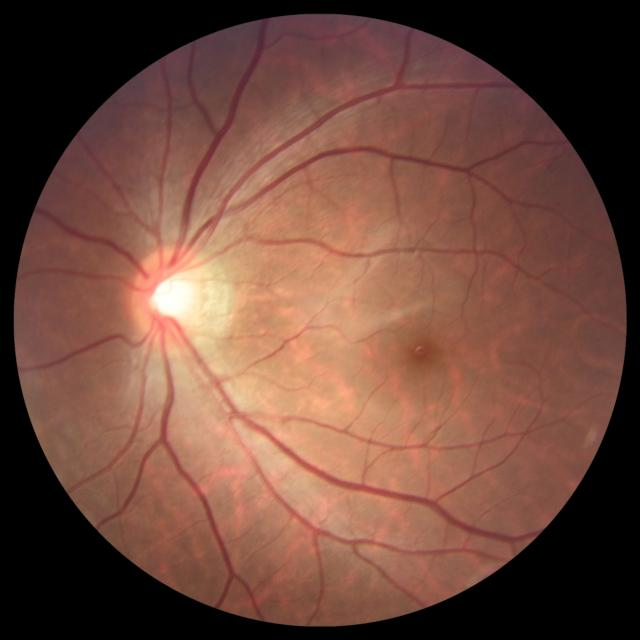OC: (149, 274, 195, 320)
OD: (128, 246, 208, 344)
